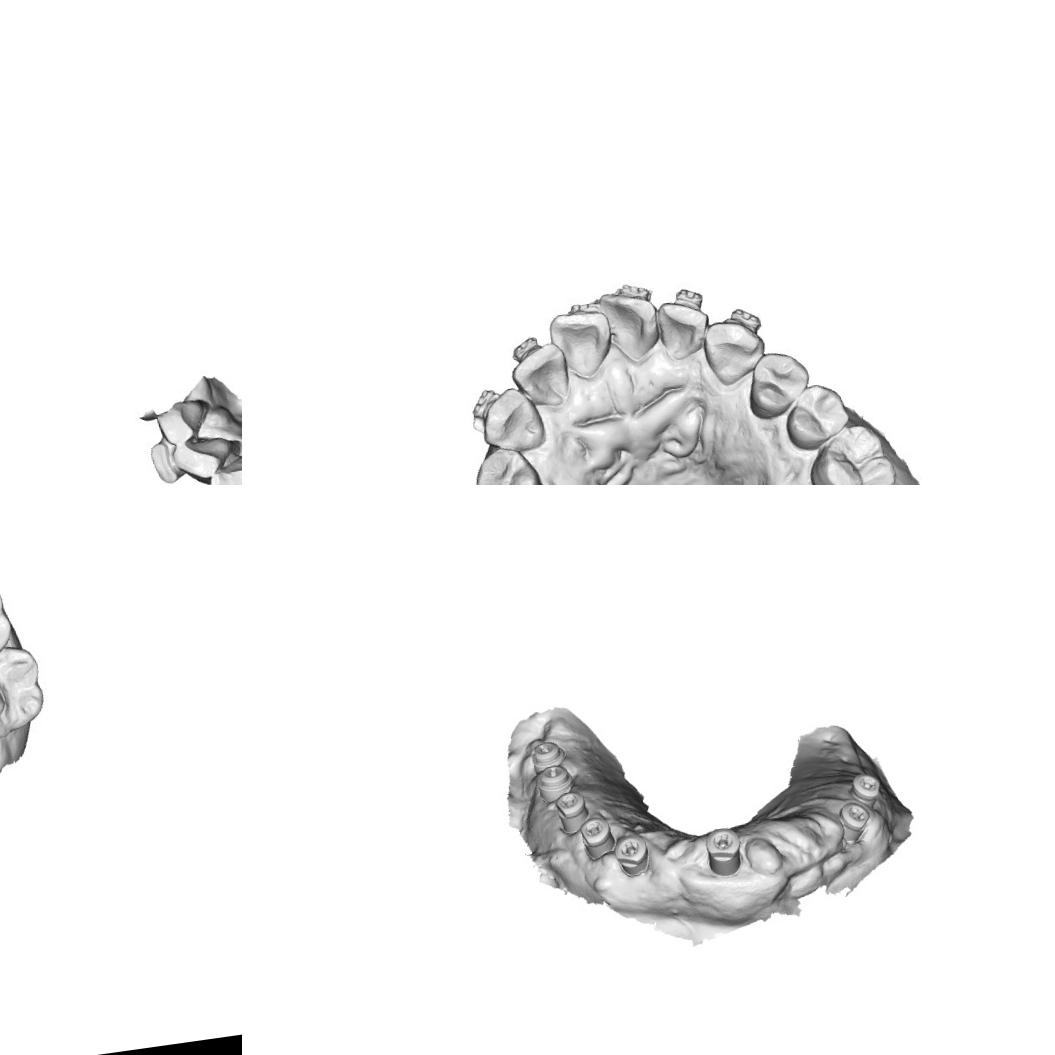canine: (475, 382, 549, 454), (699, 312, 765, 386), (211, 447, 242, 485)
implant_minus: (525, 736, 566, 776)
implant_plus: (700, 824, 746, 880), (610, 830, 654, 881), (576, 812, 618, 864), (532, 760, 578, 806), (833, 798, 875, 846), (552, 788, 592, 838), (844, 770, 886, 816)
incisor: (598, 286, 665, 365), (546, 305, 614, 382), (506, 342, 575, 409), (652, 295, 711, 360), (174, 428, 242, 484)
molar: (802, 415, 905, 485), (0, 641, 51, 746)
premolar: (777, 379, 856, 454), (741, 347, 814, 421), (469, 441, 548, 485)
